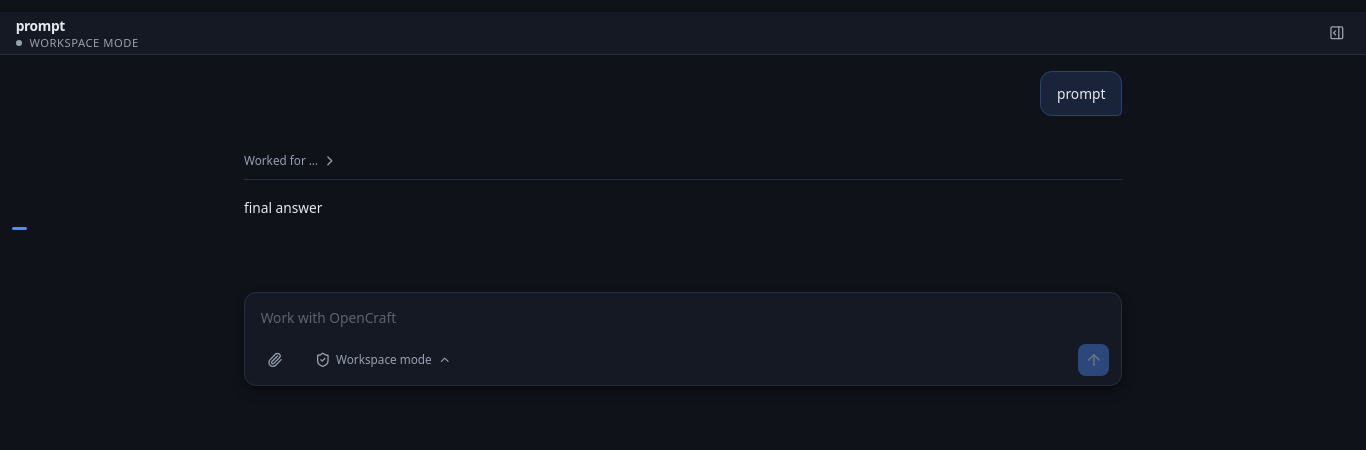
Test: ChatView transcript windowing › keeps the worked header for legacy turns without duration
expect the text "middle step" is not shown: met
Step 1. Click the button "Worked for …" → [291, 161], box x1=244 y1=151 x2=338 y2=171
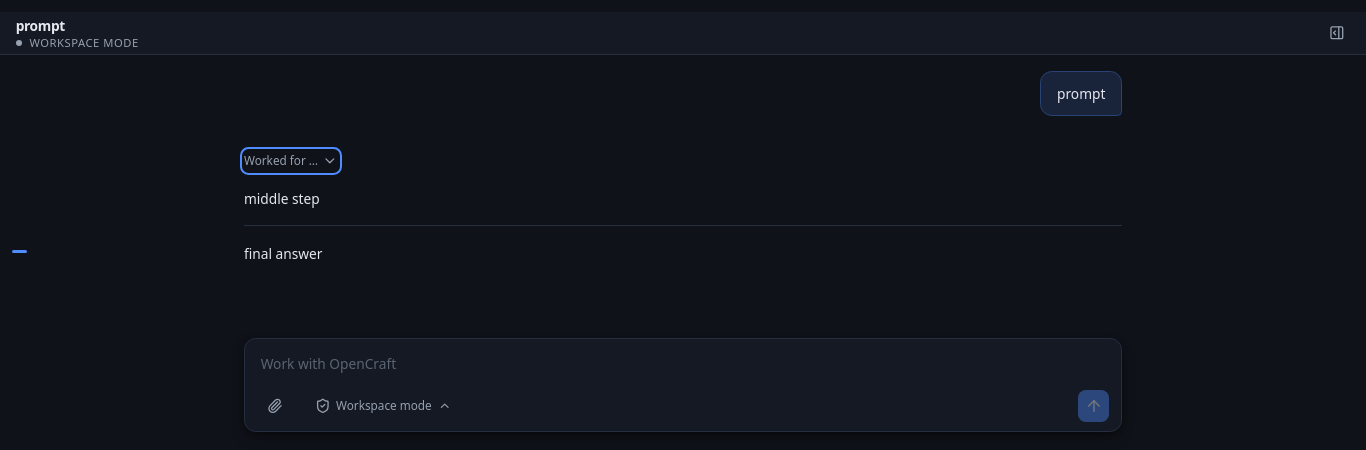
expect the text "middle step" is shown: met, box x1=244 y1=189 x2=320 y2=208
